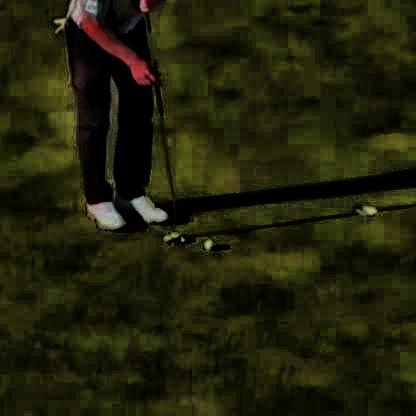golfball: (202, 237, 212, 247)
